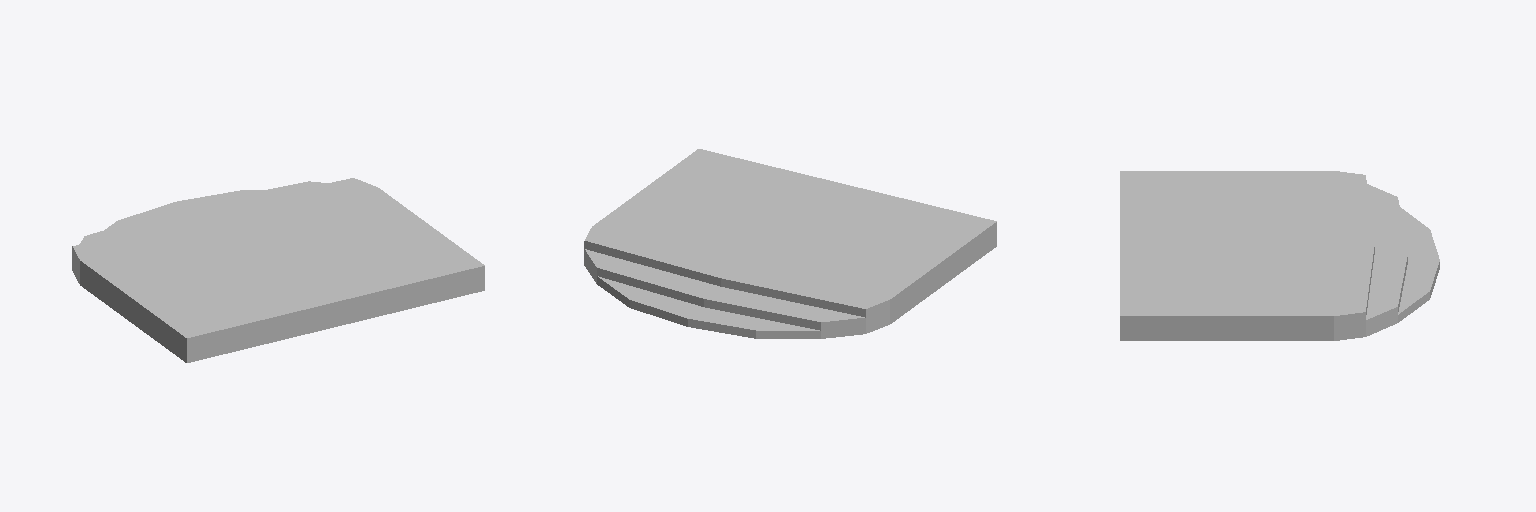
File: ChestPlatform.obj
3 views of the same model, side by side, from view 1: azimuth 30°, elevation 25°; view 2: azimuth 150°, elevation 25°; view 3: azimuth 270°, elevation 25° (orthographic).
Visible parts, largest first — view 1: ChestPlatform; view 2: ChestPlatform; view 3: ChestPlatform.
Part boxes in pixels (x1,y1,x2,y2): ChestPlatform: (72, 178, 484, 362); ChestPlatform: (584, 149, 996, 338); ChestPlatform: (1120, 171, 1439, 340).
Size of the model in its own units: 2.5 by 0.2 by 2.32.